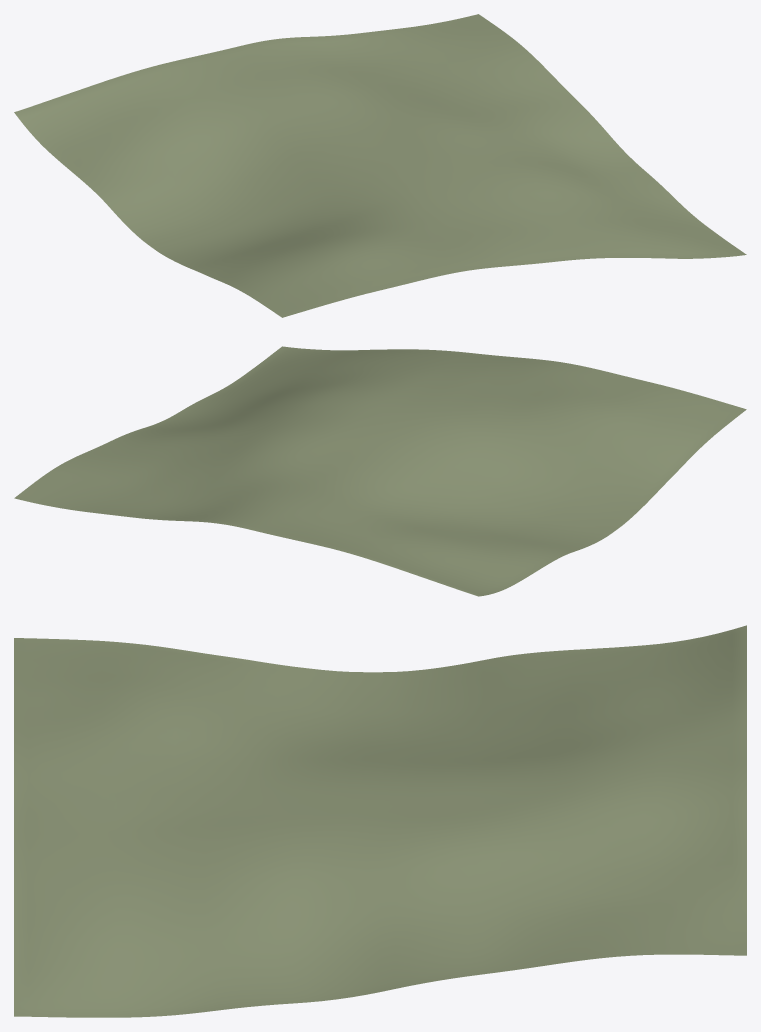
The picture shows the model from 3 angles, top to bottom: view 1: azimuth 30°, elevation 25°; view 2: azimuth 150°, elevation 25°; view 3: azimuth 270°, elevation 25°; orthographic projection. The views are drawn at different scales.
Parts seen in each view (by area): view 1: ground; view 2: ground; view 3: ground.
Part boxes in pixels (bbox=[...]): ground: bbox=[14, 14, 746, 317]; ground: bbox=[14, 346, 746, 596]; ground: bbox=[14, 625, 746, 1017].
Size of the model in its own units: 250 by 37.26 by 250.
